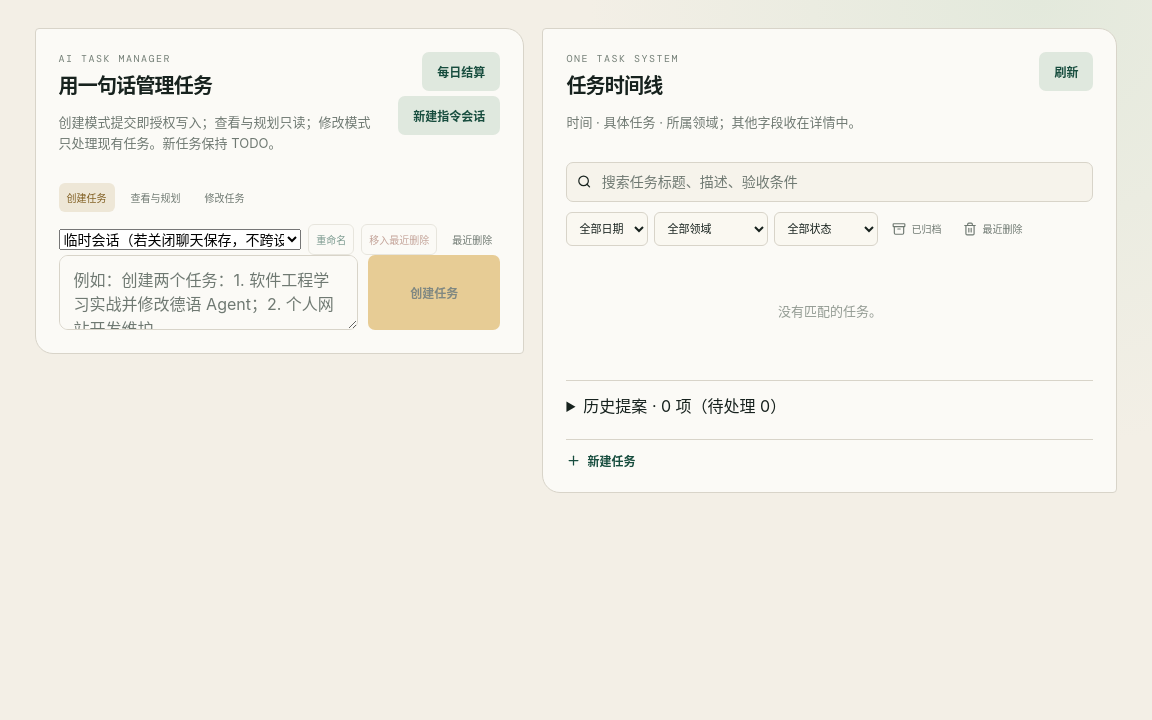
Scenario: AI-first task manager workspace › creates directly only in create mode and refreshes the database-backed timeline
Type "创建任务：完成德语 Agent 开发" into the text box named "AI 任务管理员输入".
click(208, 292); type("创建任务：完成德语 Agent 开发")  # box x1=59 y1=255 x2=358 y2=330
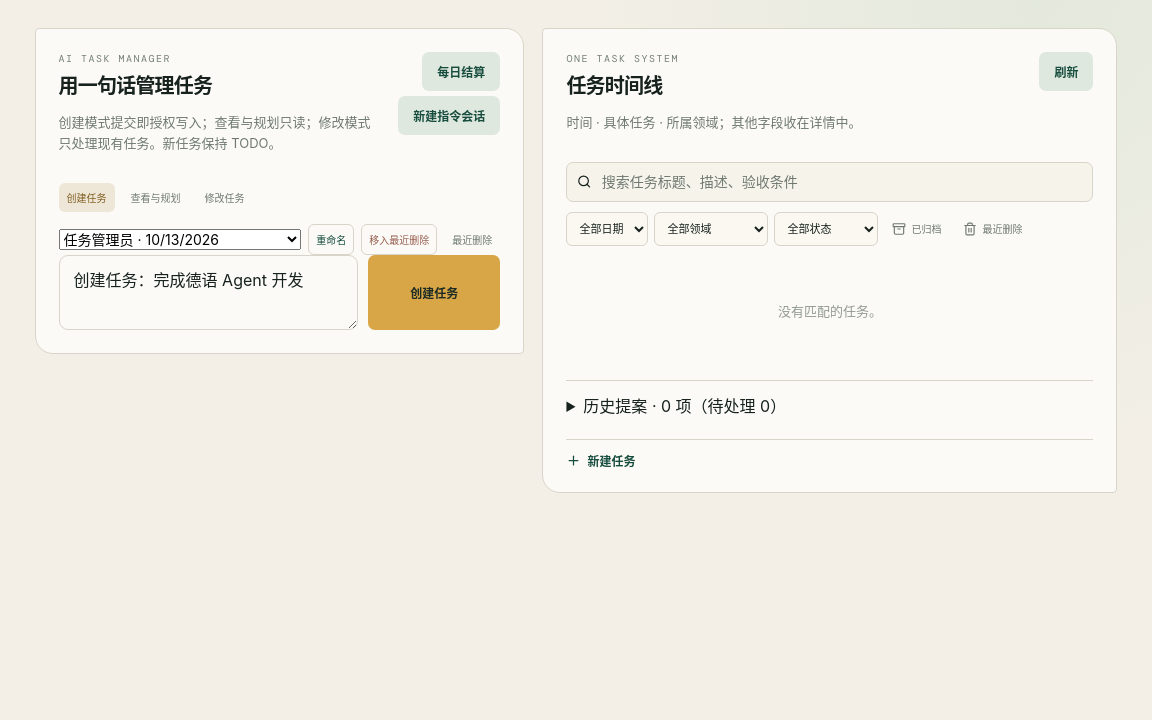
Click the 2nd button "创建任务".
click(434, 292)  # box x1=368 y1=255 x2=500 y2=330
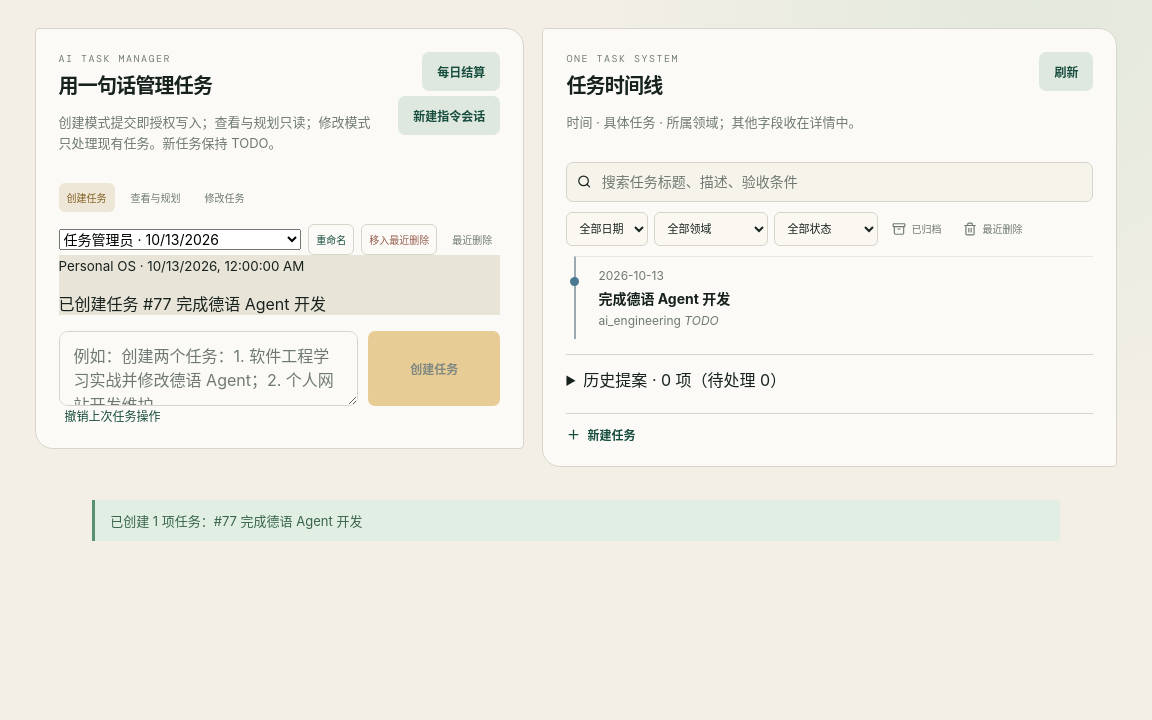
Result: the text "完成德语 Agent 开发" is shown at x1=598 y1=290 x2=730 y2=307
Result: the text "已创建 1 项任务：#77 完成德语 Agent 开发" is shown at x1=92 y1=500 x2=1060 y2=541
